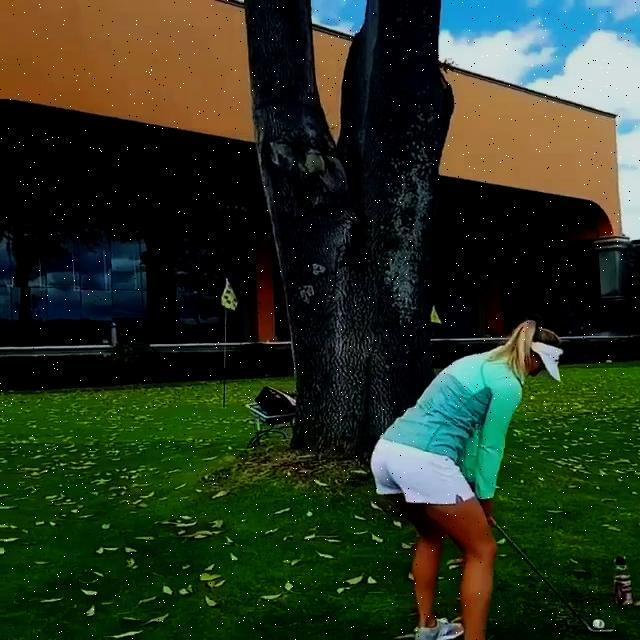golf ball: (592, 618, 604, 627)
golf club-handle: (494, 522, 615, 635)
golf club-head: (590, 627, 615, 635)
